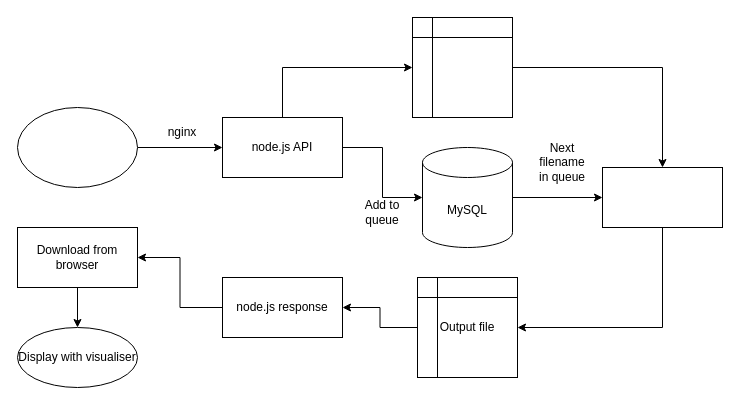
This 740x405 diagram has some shape labels left out. The centre of each missing label's shape, as x and y in pixels:
"Digest algorithm" belongs at point 662,197.
"Input parameters/file" belongs at point 462,67.
"Upload from browser" belongs at point 77,147.
